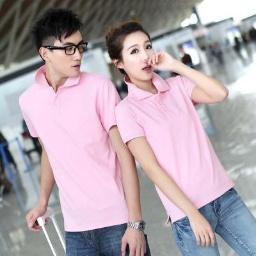face: (34, 7, 84, 78), (106, 22, 159, 82)
